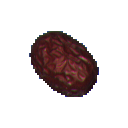gd: (21, 22, 114, 114)
